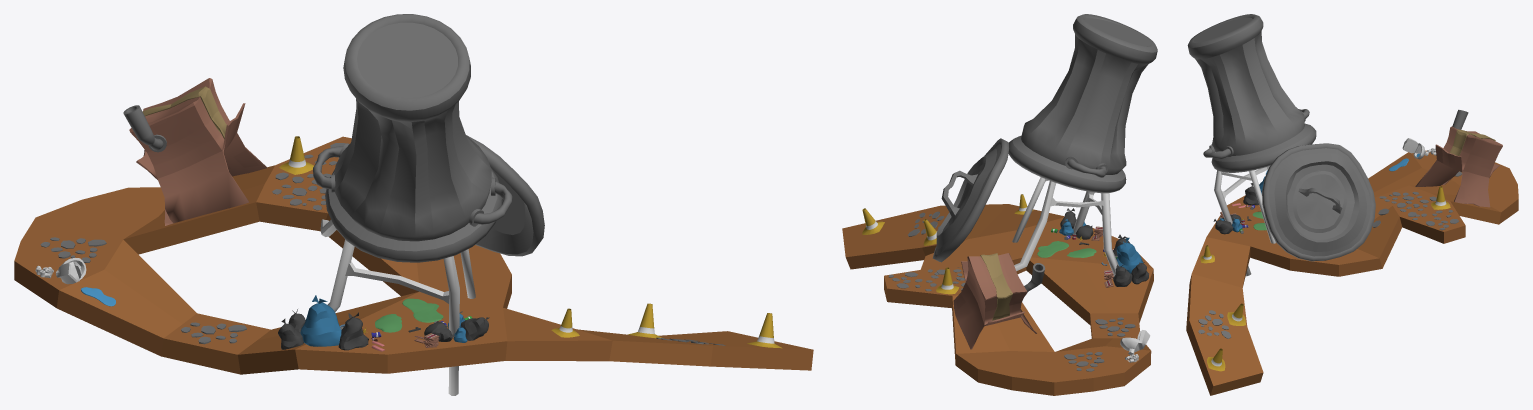
Rendered from TrashArena.fbx.
3 views of the same model, side by side, from view 1: azimuth 30°, elevation 25°; view 2: azimuth 150°, elevation 25°; view 3: azimuth 270°, elevation 25° (orthographic). The views are drawn at different scales.
Visible parts, largest first — view 1: Balancing act.001, Trash Can, Box, Cap, Trash Bag, Cube.068, Cube.187, Cube.145, Cylinder.026, Cylinder.028, Cube.143, Trash Bag.001 (+1 smaller); view 2: Balancing act.001, Trash Can, Cap, Box, Cube.145, Cube.144, Cube.143, Trash Bag, Cube.142, Toilet, Cylinder.027, Cone.004 (+6 smaller); view 3: Balancing act.001, Trash Can, Cap, Box, Cube.068, Cube.145, Cube.142, Toilet.
Boxes of the visible parts, x1=… form: Balancing act.001: x1=14, y1=136, x2=813, y2=374; Trash Can: x1=325, y1=14, x2=501, y2=262; Box: x1=129, y1=78, x2=266, y2=225; Cap: x1=466, y1=135, x2=544, y2=256; Trash Bag: x1=300, y1=295, x2=341, y2=346; Cube.068: x1=443, y1=256, x2=459, y2=395; Cube.187: x1=345, y1=261, x2=449, y2=303; Cube.145: x1=142, y1=86, x2=226, y2=138; Cylinder.026: x1=123, y1=105, x2=166, y2=152; Cylinder.028: x1=469, y1=177, x2=512, y2=226; Cube.143: x1=327, y1=239, x2=354, y2=312; Trash Bag.001: x1=338, y1=312, x2=368, y2=350; Balancing act.001: x1=842, y1=204, x2=1153, y2=395; Trash Can: x1=1008, y1=14, x2=1157, y2=193; Cap: x1=932, y1=138, x2=1008, y2=262; Box: x1=953, y1=253, x2=1036, y2=349; Cube.145: x1=980, y1=253, x2=1012, y2=320; Cube.144: x1=1014, y1=181, x2=1055, y2=271; Cube.143: x1=1101, y1=193, x2=1118, y2=276; Trash Bag: x1=1116, y1=237, x2=1143, y2=273; Cube.142: x1=1012, y1=177, x2=1045, y2=242; Toilet: x1=1120, y1=330, x2=1150, y2=354; Cylinder.027: x1=1065, y1=156, x2=1107, y2=177; Cone.004: x1=862, y1=208, x2=884, y2=234; Balancing act.001: x1=1186, y1=150, x2=1518, y2=395; Trash Can: x1=1187, y1=14, x2=1316, y2=172; Cap: x1=1262, y1=143, x2=1375, y2=261; Box: x1=1415, y1=126, x2=1502, y2=207; Cube.068: x1=1214, y1=170, x2=1251, y2=276; Cube.145: x1=1450, y1=129, x2=1495, y2=155; Cube.142: x1=1249, y1=170, x2=1275, y2=243; Toilet: x1=1402, y1=138, x2=1428, y2=159.
Size of the model in its own units: 2228 by 1502 by 1728.
